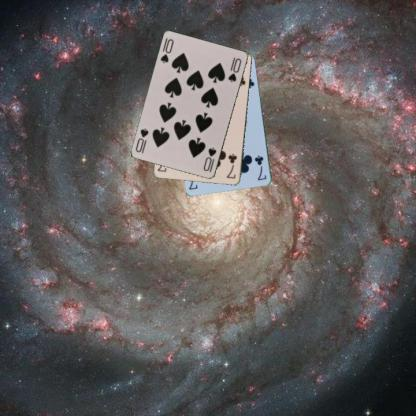10s: (201, 145, 218, 174), (158, 36, 175, 65)
7c: (252, 153, 268, 182), (224, 151, 238, 180)
